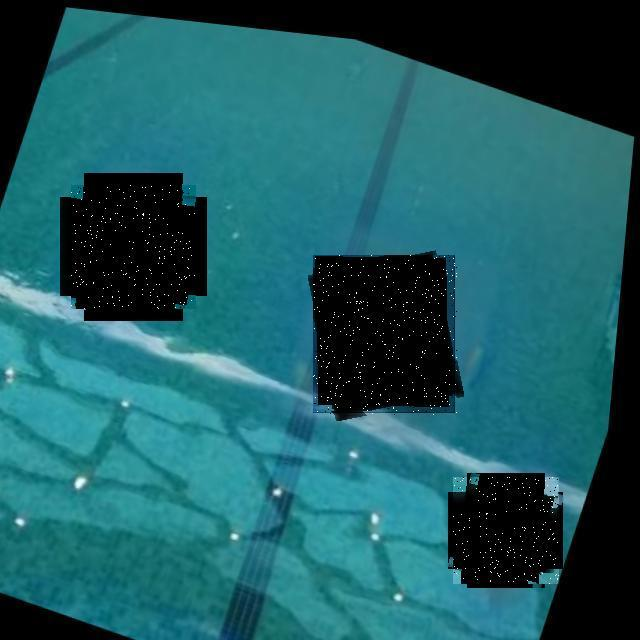swimming: (314, 255, 458, 416), (71, 185, 196, 309), (453, 477, 559, 584)
